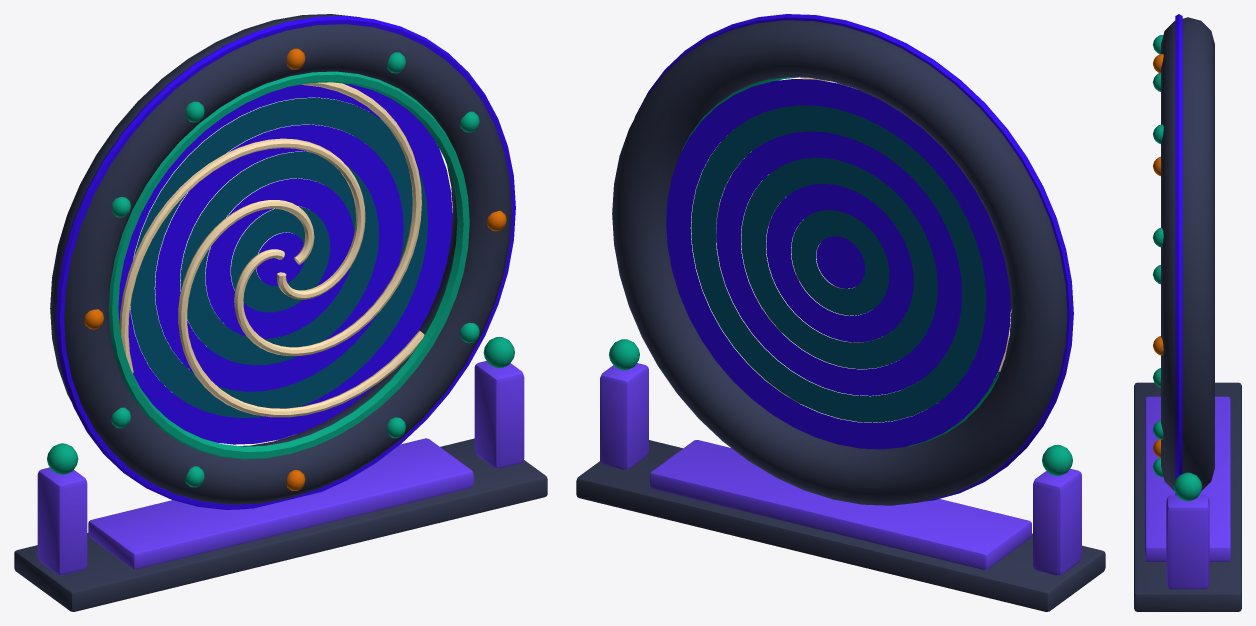
The model's file is CosmicPortal.obj.
3 views of the same model, side by side, from view 1: azimuth 30°, elevation 25°; view 2: azimuth 150°, elevation 25°; view 3: azimuth 270°, elevation 25° (orthographic). The views are drawn at different scales.
Parts seen in each view (by area): view 1: CosmicPortal; view 2: CosmicPortal; view 3: CosmicPortal.
Part boxes in pixels (<box>): CosmicPortal: <box>14,14,547,611</box>; CosmicPortal: <box>576,14,1105,611</box>; CosmicPortal: <box>1134,14,1241,611</box>.
Bounding box in the file's own units: 14 × 14.44 × 3.
